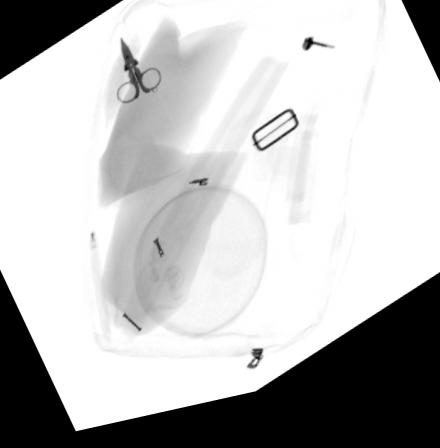Scissors: (116, 41, 162, 109)
